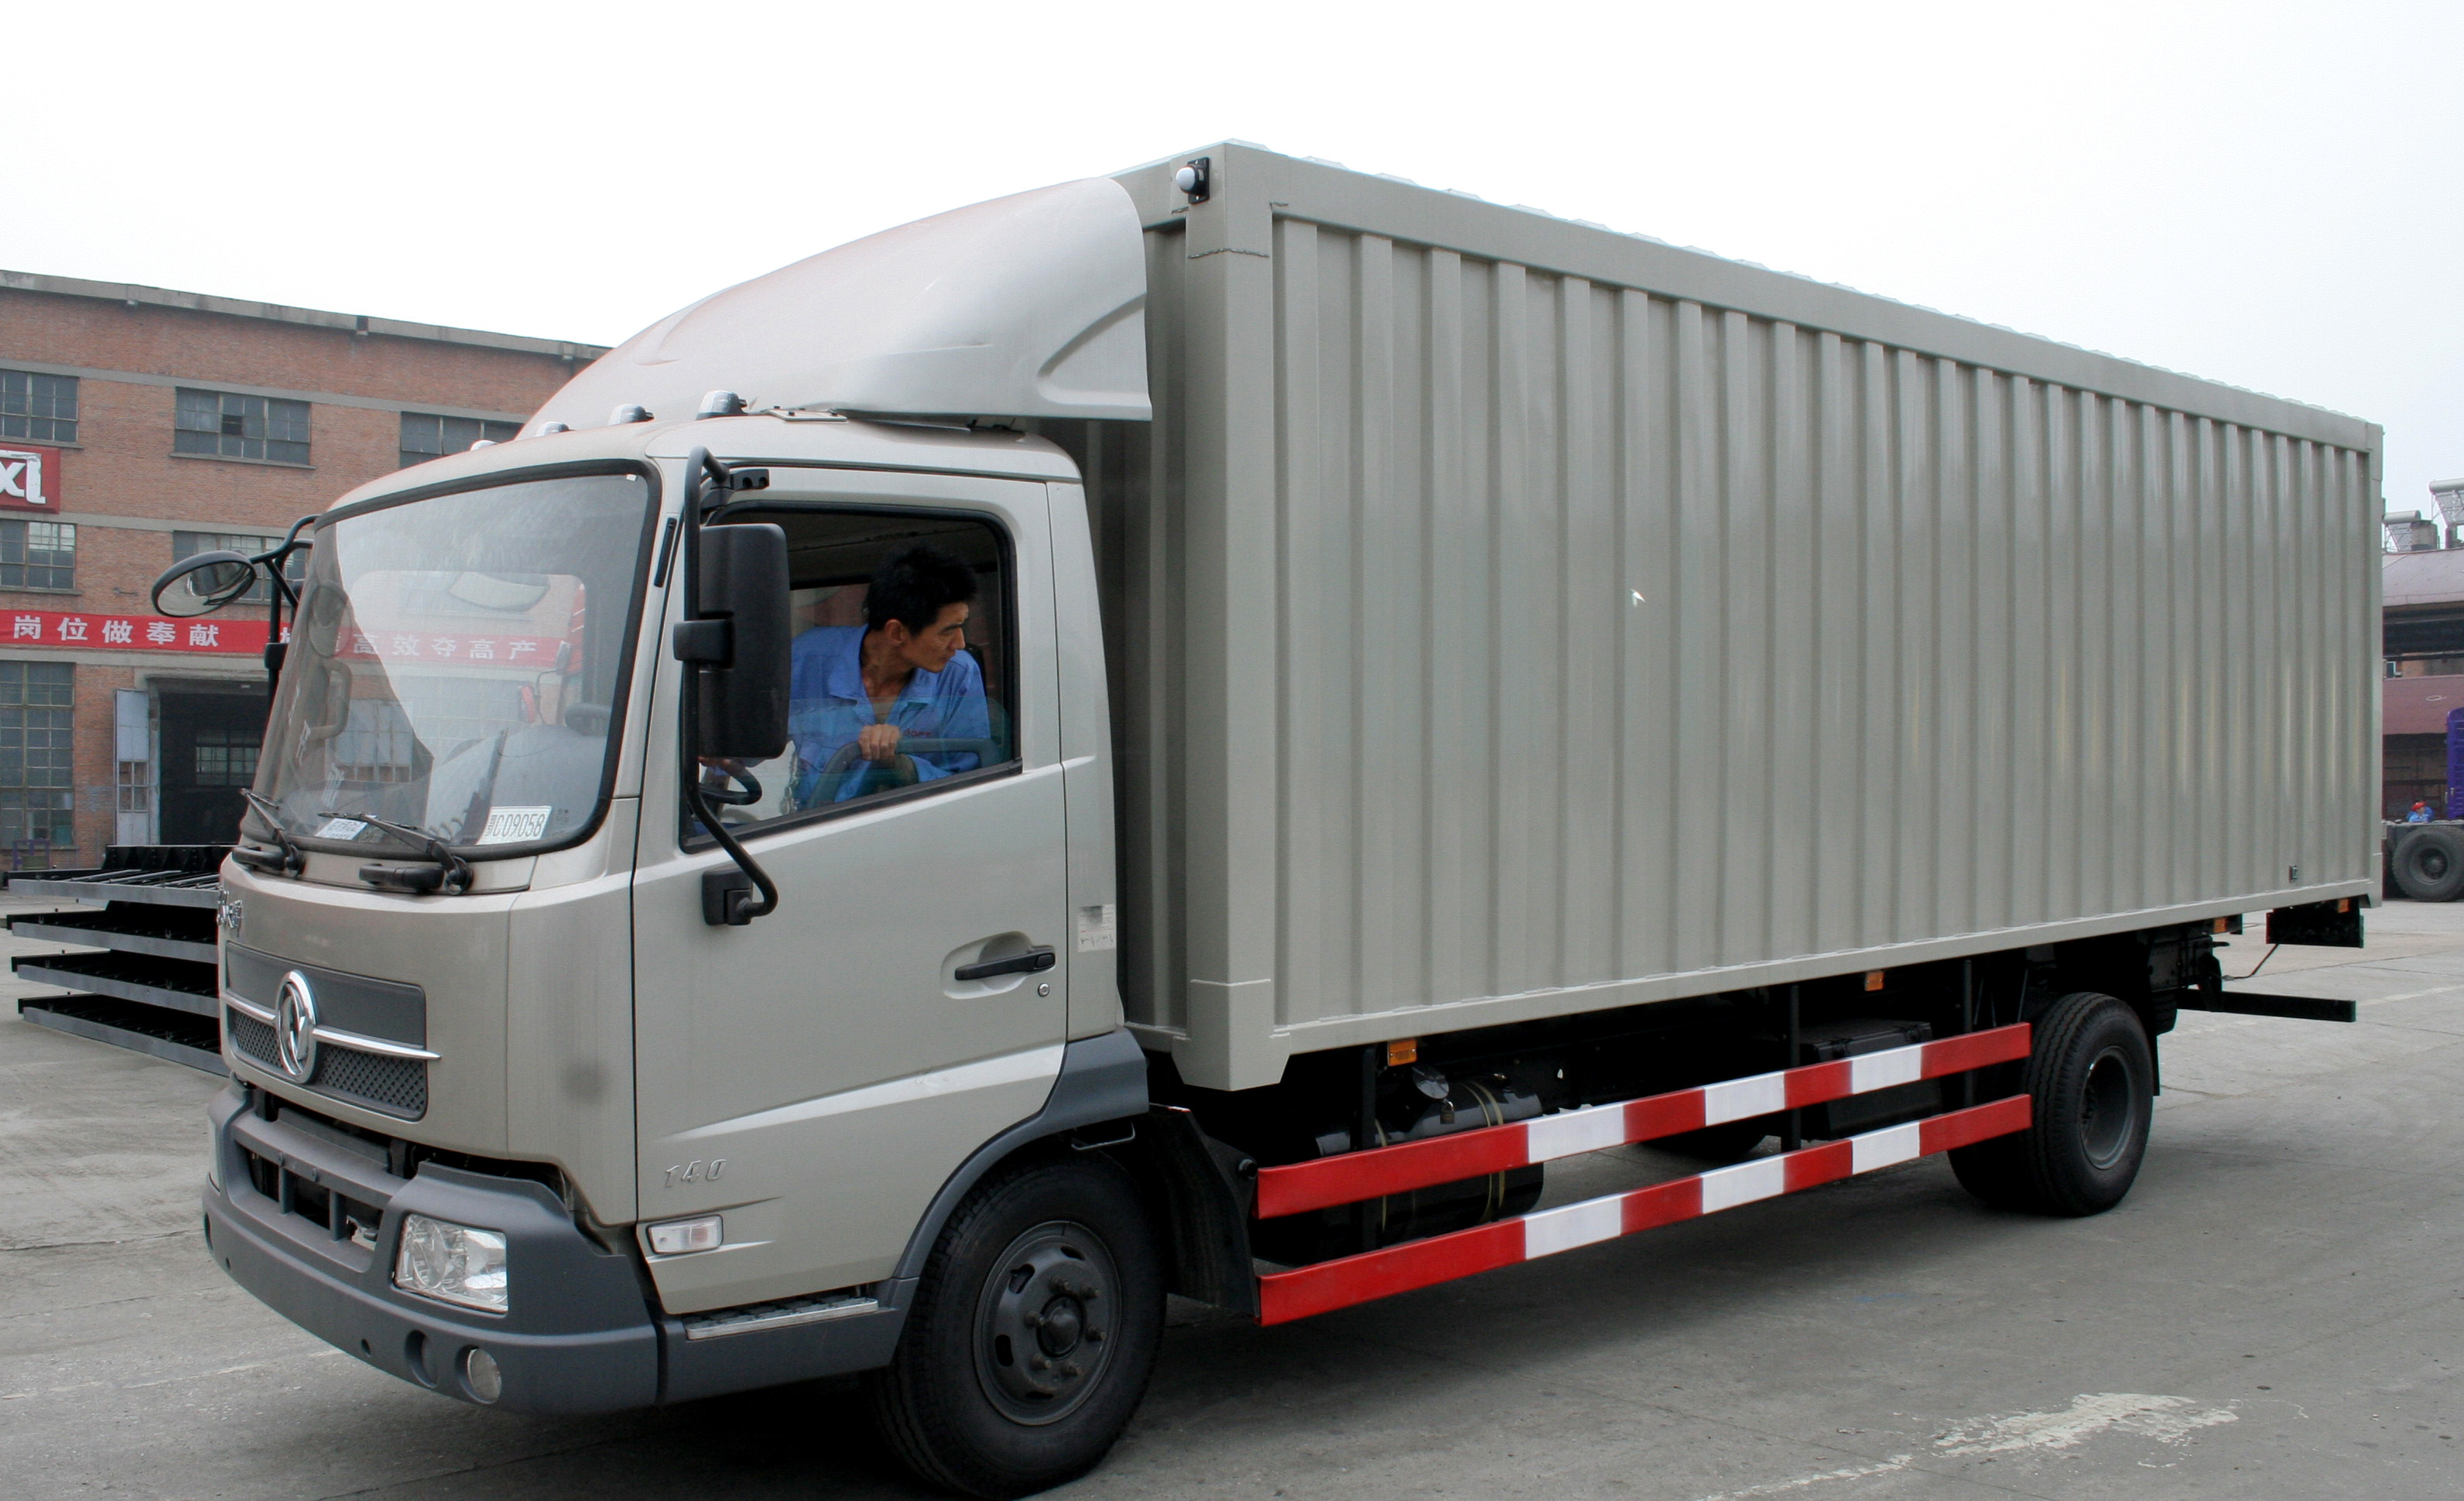truck: (155, 141, 2390, 1501)
